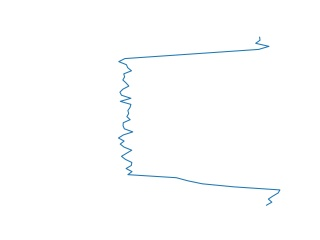distributaryChannelFill: (114, 37, 282, 205)
